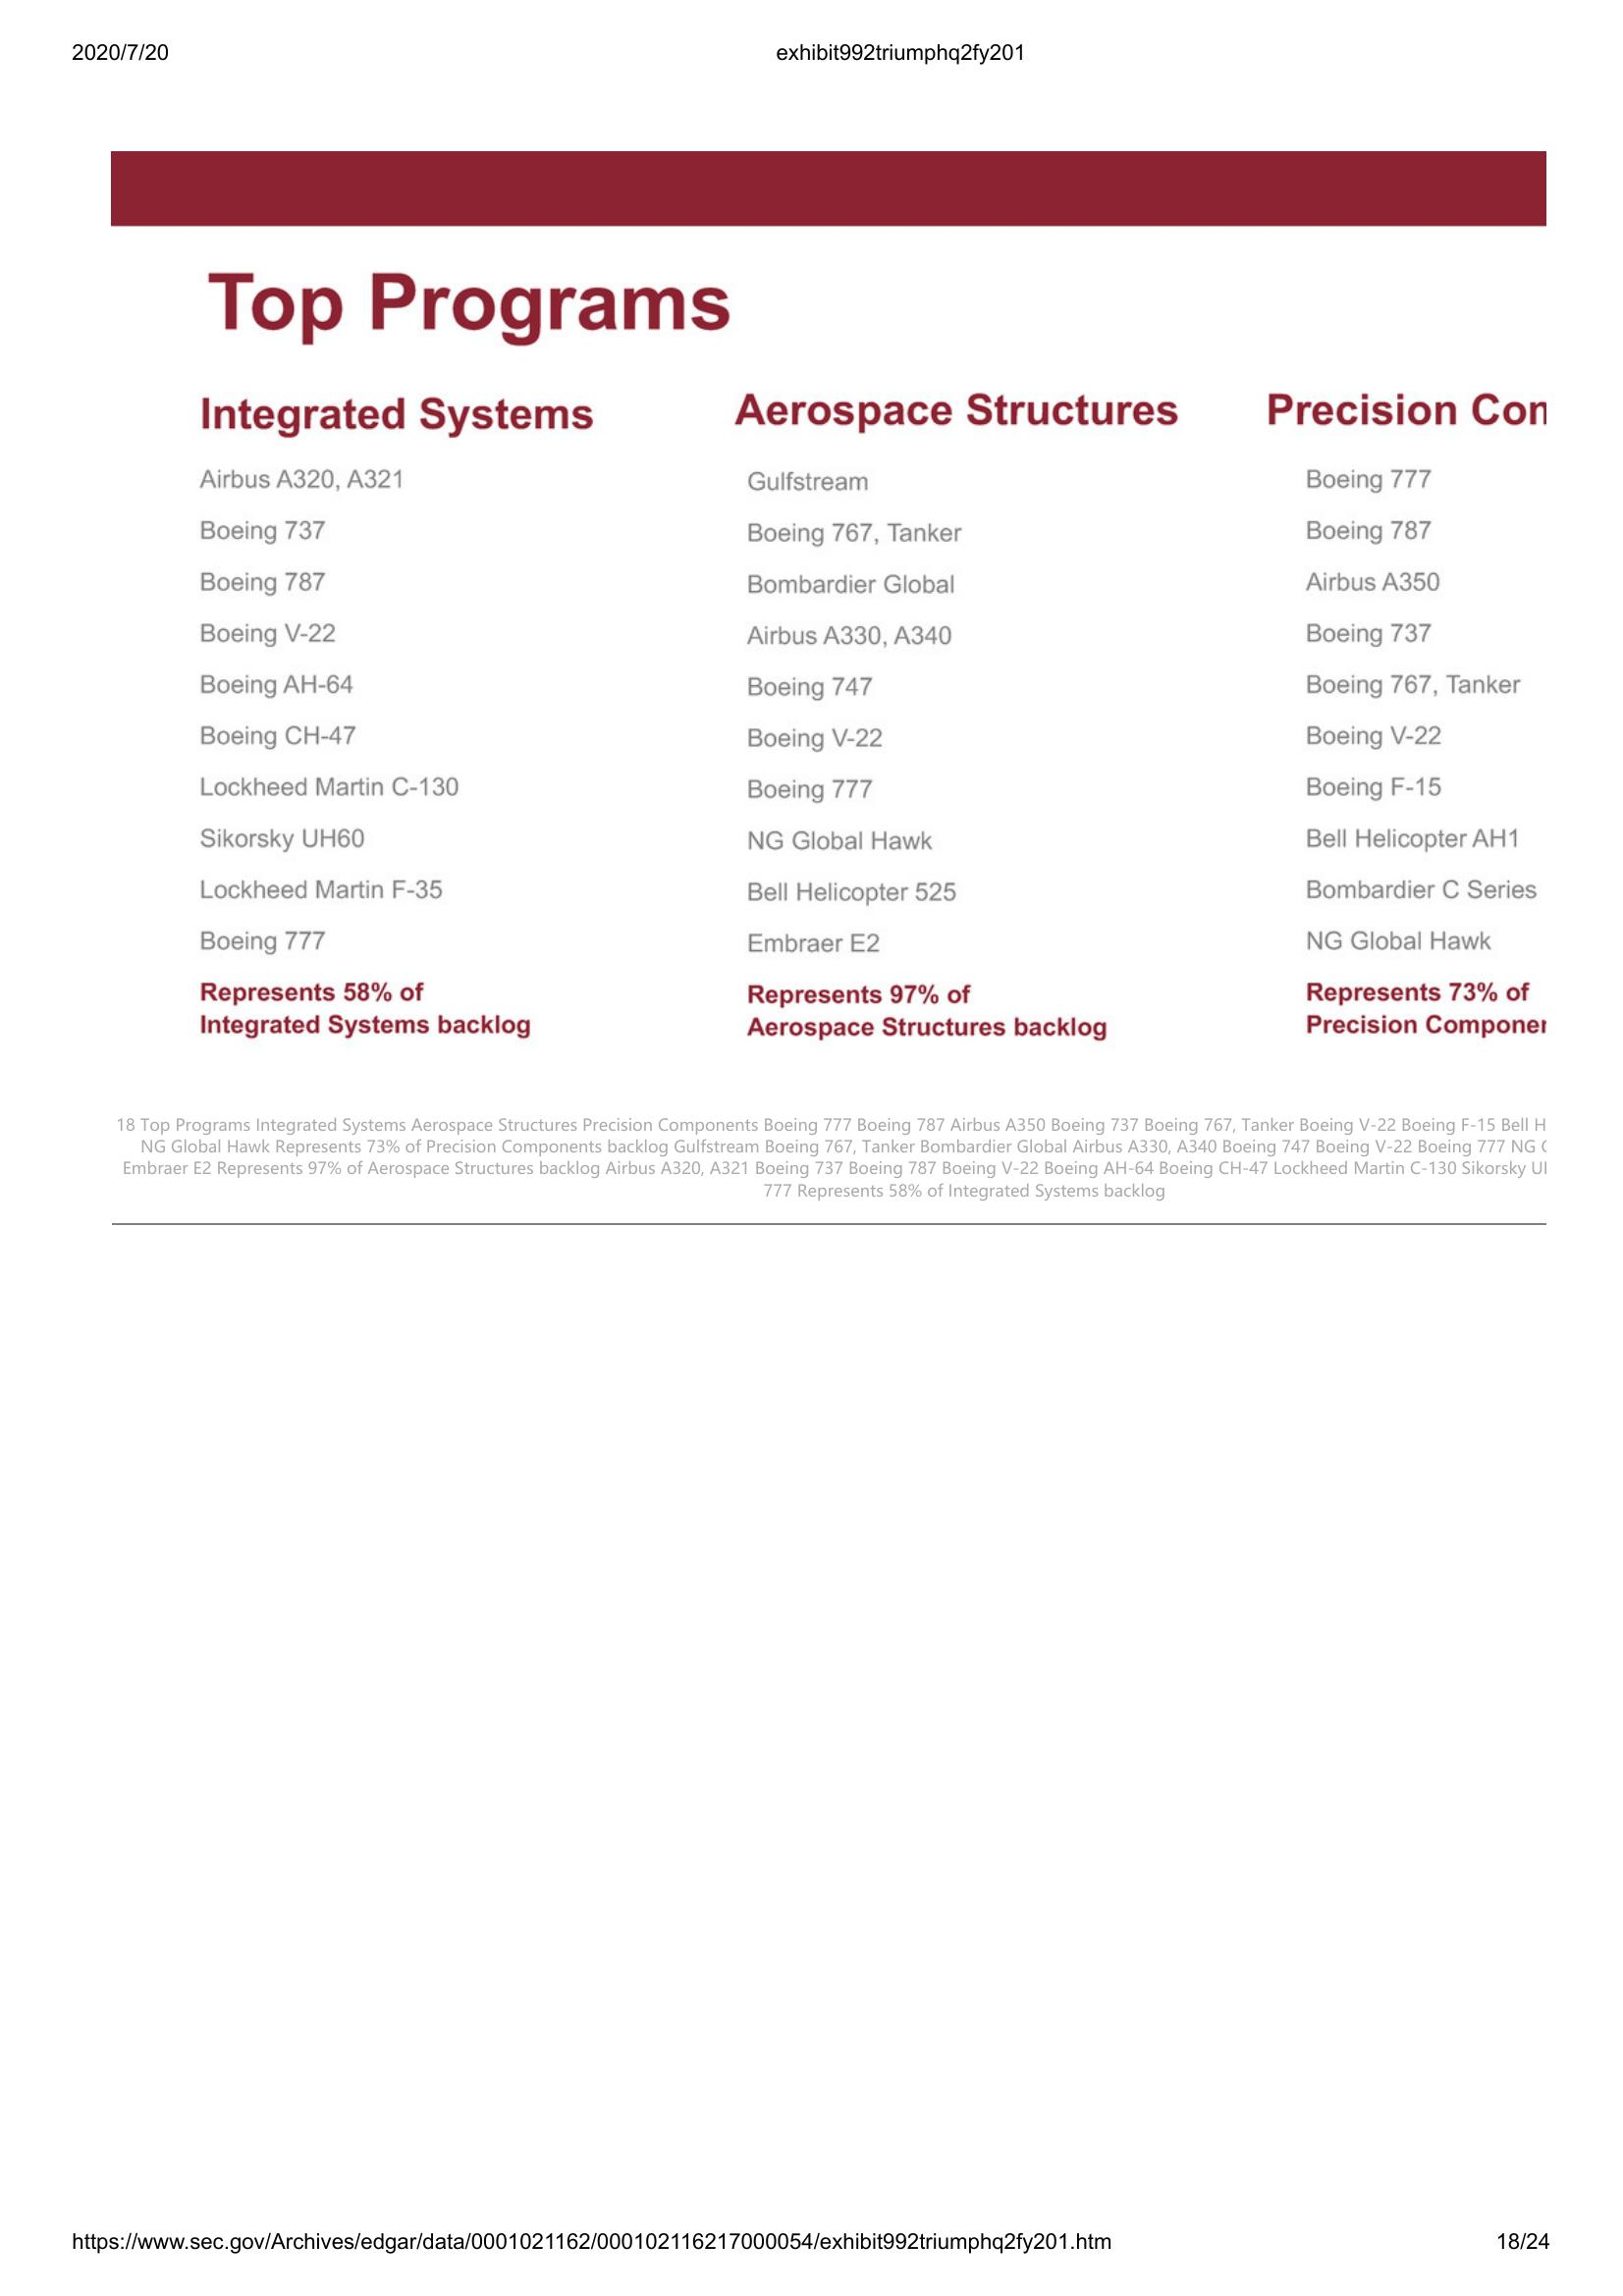table: (193, 388, 1558, 1041)
